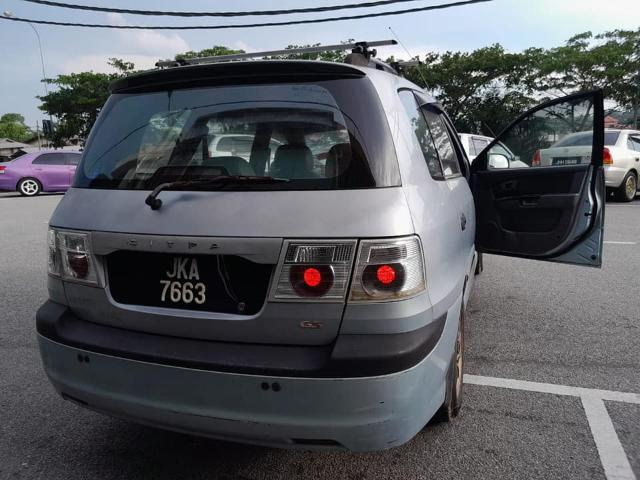License_Plate: (138, 252, 222, 309)
car: (24, 56, 486, 454)
